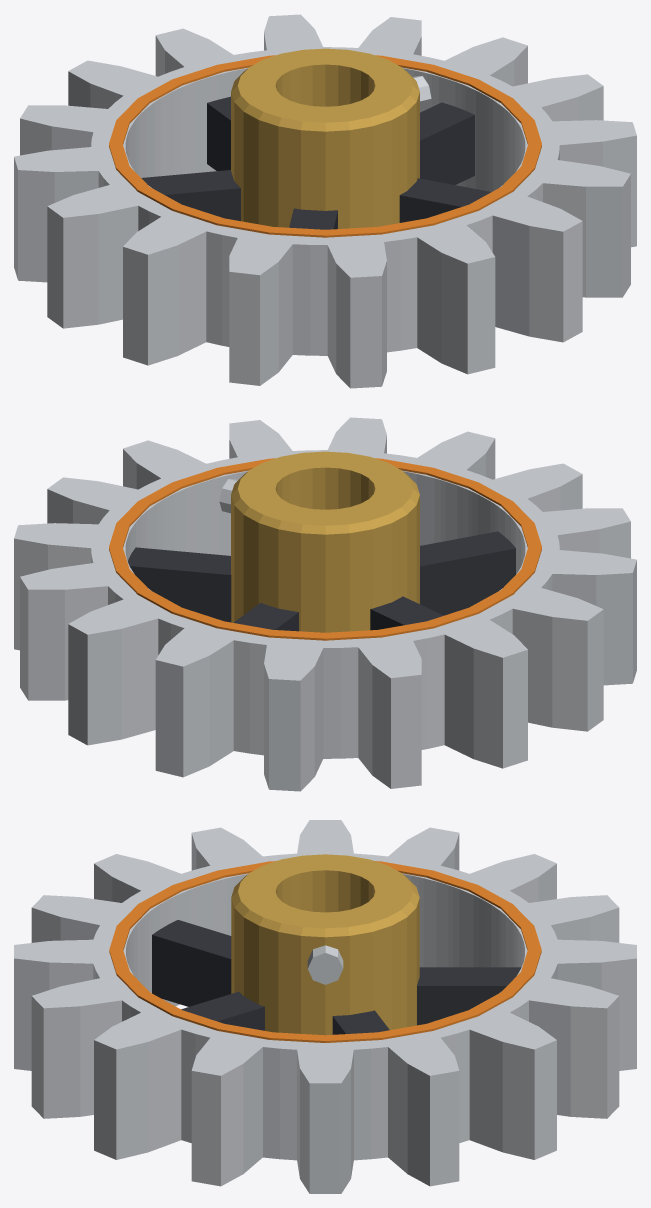
The model's file is gear_quality.glb.
The picture shows the model from 3 angles, top to bottom: view 1: azimuth 30°, elevation 25°; view 2: azimuth 150°, elevation 25°; view 3: azimuth 270°, elevation 25°; orthographic projection.
Parts seen in each view (by area): view 1: gear_quality; view 2: gear_quality; view 3: gear_quality.
Part boxes in pixels (x1,y1,x2,y2): gear_quality: (14,14,636,388); gear_quality: (14,417,636,791); gear_quality: (14,820,636,1193).
Bounding box in the file's own units: 0.1124 × 0.034 × 0.1124.
